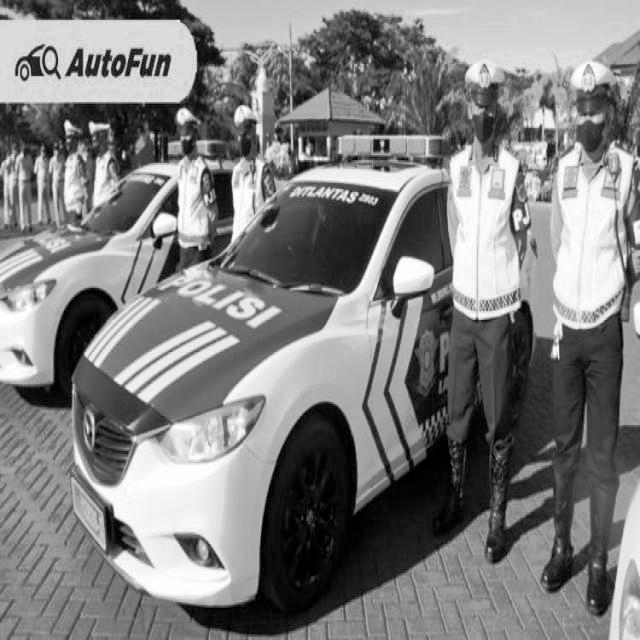Car: (0, 218, 446, 627)
